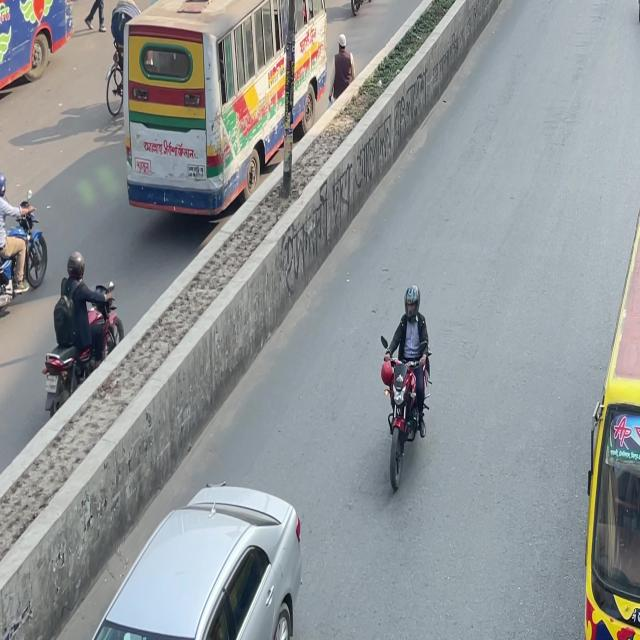bicycle: (610, 0, 640, 42), (343, 0, 375, 12)
bus: (122, 0, 336, 222), (585, 54, 640, 640), (0, 0, 81, 102)
car: (81, 488, 306, 640)
motorbike: (383, 288, 430, 483), (49, 271, 122, 389), (42, 312, 112, 409), (1, 201, 49, 292)
